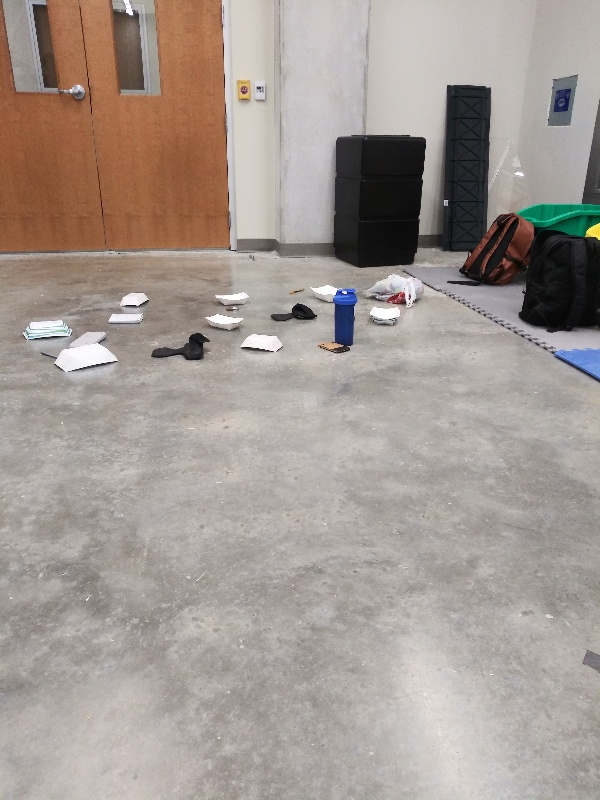plate: (49, 339, 122, 376), (19, 315, 73, 344), (238, 332, 289, 355), (201, 311, 248, 335), (367, 302, 405, 328), (212, 287, 252, 310), (114, 289, 155, 311), (305, 280, 341, 304)
